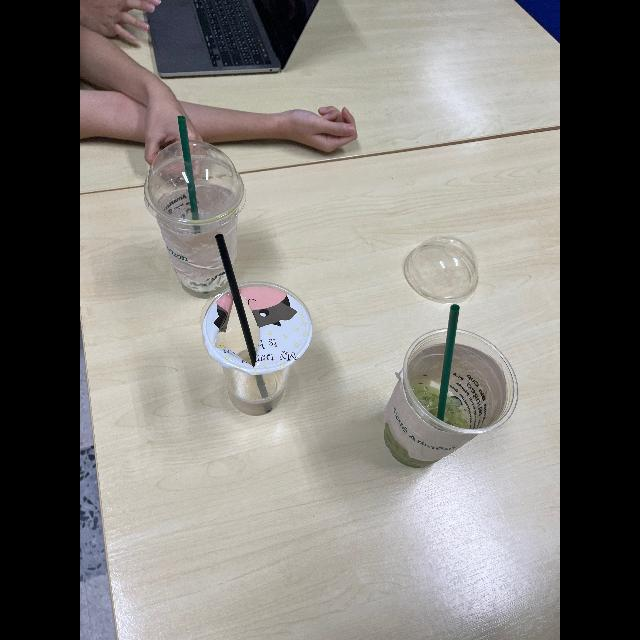plastic_cup: (368, 322, 516, 493), (202, 270, 314, 418), (148, 146, 248, 306), (399, 230, 489, 304)
plastic_cup_lid: (140, 140, 258, 224)
straw: (215, 229, 265, 409), (423, 304, 469, 428)
